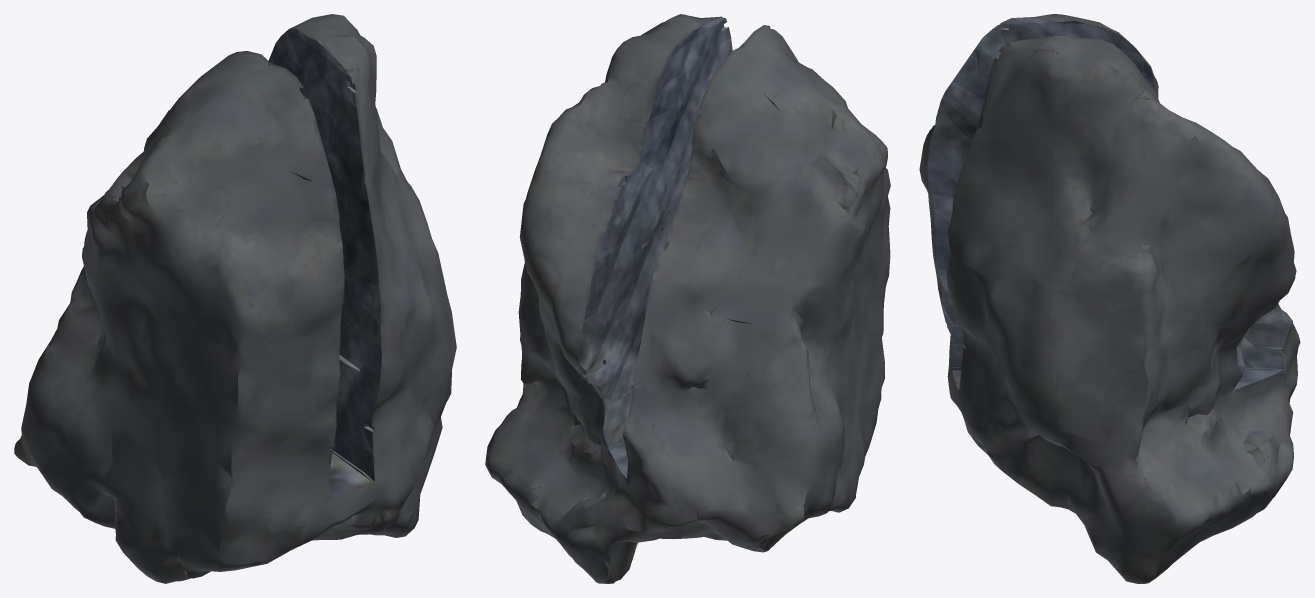
Rendered from kayalik_1.glb.
The picture shows the model from 3 angles, left to right: view 1: azimuth 30°, elevation 25°; view 2: azimuth 150°, elevation 25°; view 3: azimuth 270°, elevation 25°; orthographic projection. The views are drawn at different scales.
Parts seen in each view (by area): view 1: lod0; view 2: lod0; view 3: lod0.
Part boxes in pixels (box(x1,y1,x2,y2)): lod0: box(14, 14, 456, 583); lod0: box(485, 14, 890, 583); lod0: box(919, 14, 1300, 583).
Size of what is drawn, in the model's own units: 573 by 798 by 554.
1 material, 1 textured.
